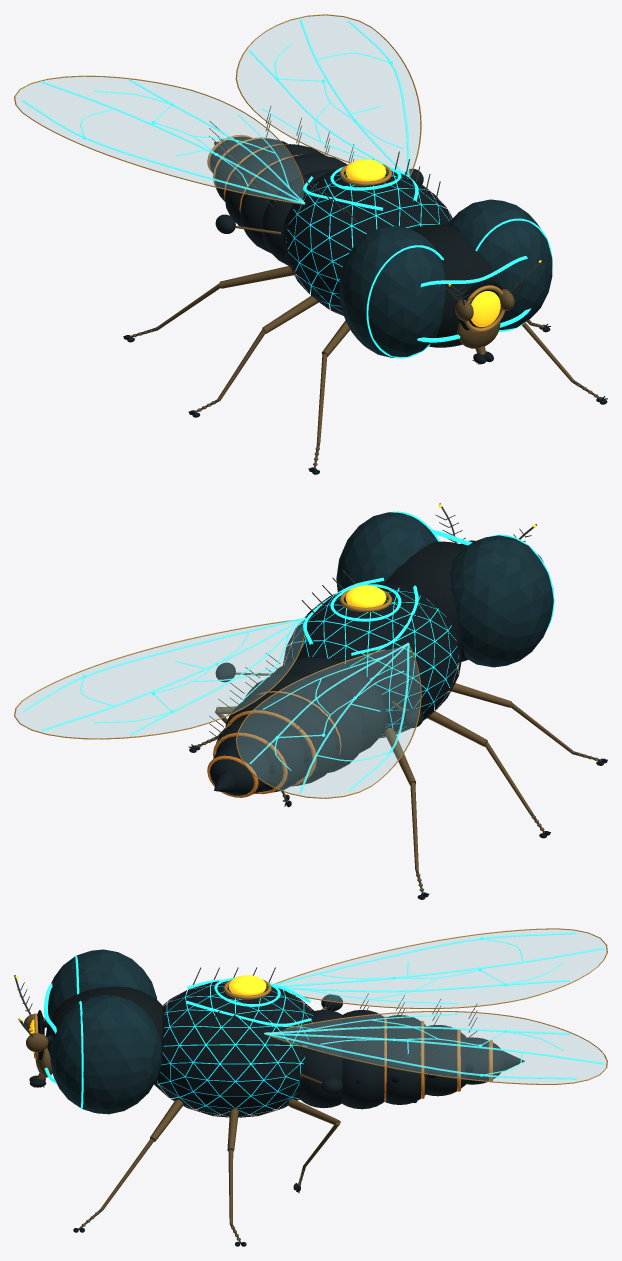
The model's file is mirror-gap-v5.3.0.glb.
The picture shows the model from 3 angles, top to bottom: view 1: azimuth 30°, elevation 25°; view 2: azimuth 150°, elevation 25°; view 3: azimuth 270°, elevation 25°; orthographic projection. The views are drawn at different scales.
Visible parts, largest first — view 1: Thin_wing_membrane (×2), Separate_head_Left_compound_eye_batch, Faceted_obsidian_thorax, Horizontal_segmented_abdomen_Abdominal_segment_1_batch, Head_capsule, Left_single_membrane_wing_Cyan_neural_wing_vein_1_batch, Right_single_membrane_wing_Cyan_neural_wing_vein_1_batch, Thorax_inner_cyan_fissures, Costal_wing_gold_edge (×2), Separate_head_Cyan_compound_eye_rim_batch, Facial_amber_core, Thorax_pitch_and_bank_Dorsal_core_cyan_fissure_batch (+4 smaller); view 2: Thin_wing_membrane (×2), Separate_head_Left_compound_eye_batch, Horizontal_segmented_abdomen_Abdominal_segment_1_batch, Faceted_obsidian_thorax, Head_capsule, Right_single_membrane_wing_Cyan_neural_wing_vein_1_batch, Thorax_inner_cyan_fissures, Left_single_membrane_wing_Cyan_neural_wing_vein_1_batch, Costal_wing_gold_edge (×2), Horizontal_segmented_abdomen_Amber_tergite_seam_1_batch, Femur (×3), Thorax_pitch_and_bank_Dorsal_core_cyan_fissure_batch (+2 smaller); view 3: Thin_wing_membrane (×2), Faceted_obsidian_thorax, Separate_head_Left_compound_eye_batch, Horizontal_segmented_abdomen_Abdominal_segment_1_batch, Thorax_inner_cyan_fissures, Right_single_membrane_wing_Cyan_neural_wing_vein_1_batch, Left_single_membrane_wing_Cyan_neural_wing_vein_1_batch, Costal_wing_gold_edge (×2), Head_capsule, Thorax_pitch_and_bank_Dorsal_core_cyan_fissure_batch, Horizontal_segmented_abdomen_Amber_tergite_seam_1_batch, Separate_head_Cyan_compound_eye_rim_batch (+2 smaller).
Boxes of the visible parts, x1,y1,x2,y2 form: Thin_wing_membrane (×2): [15, 15, 419, 201]; Separate_head_Left_compound_eye_batch: [339, 199, 552, 357]; Faceted_obsidian_thorax: [283, 171, 452, 315]; Horizontal_segmented_abdomen_Abdominal_segment_1_batch: [209, 136, 347, 265]; Head_capsule: [412, 224, 500, 347]; Left_single_membrane_wing_Cyan_neural_wing_vein_1_batch: [22, 79, 304, 204]; Right_single_membrane_wing_Cyan_neural_wing_vein_1_batch: [248, 17, 409, 176]; Thorax_inner_cyan_fissures: [286, 173, 449, 312]; Costal_wing_gold_edge (×2): [14, 14, 421, 204]; Separate_head_Cyan_compound_eye_rim_batch: [366, 218, 552, 358]; Facial_amber_core: [471, 291, 500, 326]; Thorax_pitch_and_bank_Dorsal_core_cyan_fissure_batch: [303, 166, 418, 210]; Thin_wing_membrane (×2): [15, 621, 419, 797]; Separate_head_Left_compound_eye_batch: [336, 512, 553, 667]; Horizontal_segmented_abdomen_Abdominal_segment_1_batch: [209, 657, 386, 795]; Faceted_obsidian_thorax: [283, 583, 462, 738]; Head_capsule: [384, 541, 468, 662]; Right_single_membrane_wing_Cyan_neural_wing_vein_1_batch: [23, 617, 305, 735]; Thorax_inner_cyan_fissures: [291, 587, 458, 734]; Left_single_membrane_wing_Cyan_neural_wing_vein_1_batch: [249, 642, 409, 793]; Costal_wing_gold_edge (×2): [14, 619, 421, 798]; Horizontal_segmented_abdomen_Amber_tergite_seam_1_batch: [207, 691, 341, 797]; Femur (×3): [384, 683, 511, 785]; Thorax_pitch_and_bank_Dorsal_core_cyan_fissure_batch: [303, 577, 418, 655]; Thin_wing_membrane (×2): [273, 929, 606, 1083]; Faceted_obsidian_thorax: [154, 981, 317, 1117]; Separate_head_Left_compound_eye_batch: [48, 949, 161, 1114]; Horizontal_segmented_abdomen_Abdominal_segment_1_batch: [298, 1010, 503, 1109]; Thorax_inner_cyan_fissures: [157, 985, 312, 1114]; Right_single_membrane_wing_Cyan_neural_wing_vein_1_batch: [264, 1013, 603, 1079]; Left_single_membrane_wing_Cyan_neural_wing_vein_1_batch: [273, 932, 604, 1004]; Costal_wing_gold_edge (×2): [264, 928, 607, 1084]; Head_capsule: [45, 986, 164, 1083]; Thorax_pitch_and_bank_Dorsal_core_cyan_fissure_batch: [186, 977, 311, 1026]; Horizontal_segmented_abdomen_Amber_tergite_seam_1_batch: [384, 1016, 492, 1102]; Separate_head_Cyan_compound_eye_rim_batch: [44, 955, 83, 1109].
Bounding box in the file's own units: 1.1 × 0.6208 × 1.72.
